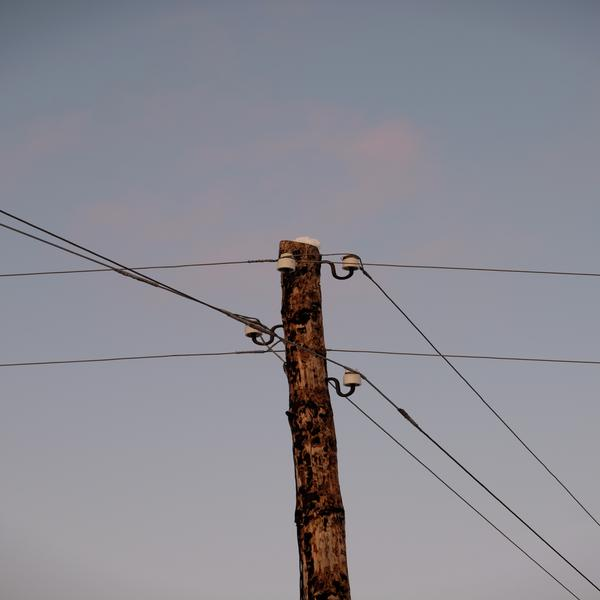utility_pole: (198, 207, 408, 433)
